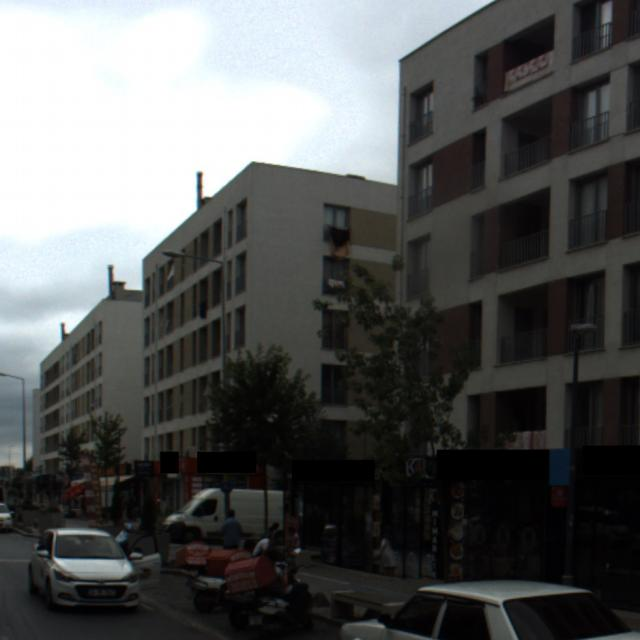SignStore: (437, 450, 549, 480), (292, 460, 375, 481), (583, 446, 640, 475), (197, 452, 257, 473), (161, 452, 179, 474)
